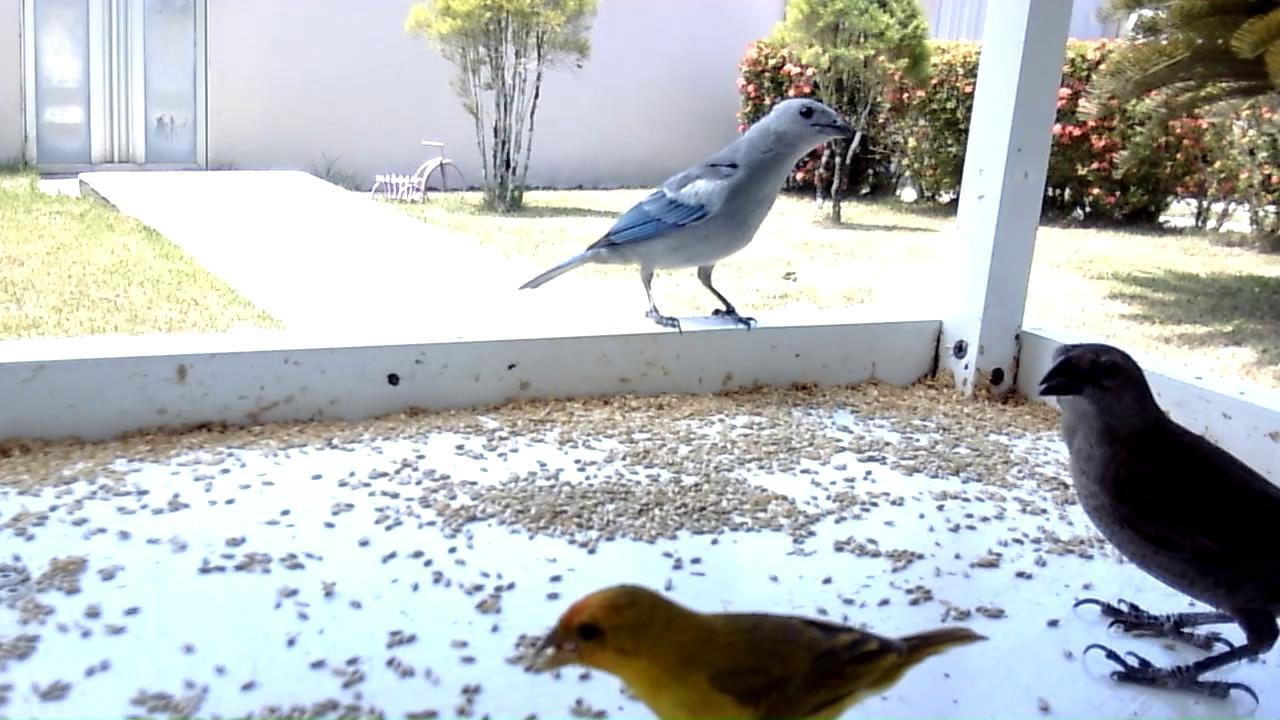canario_do_amazonas: (524, 577, 994, 720)
chupim: (1035, 339, 1280, 710)
sanhaco_da_amazonia: (516, 98, 861, 338)
